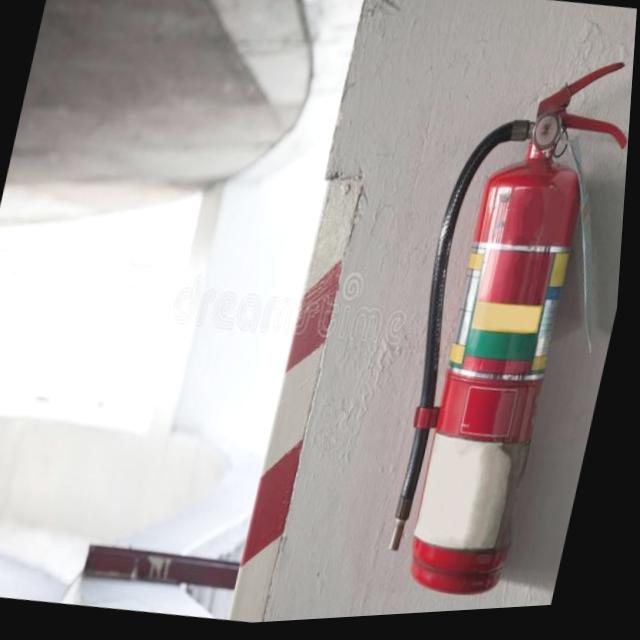FireExtinguisher: (362, 42, 636, 622)
